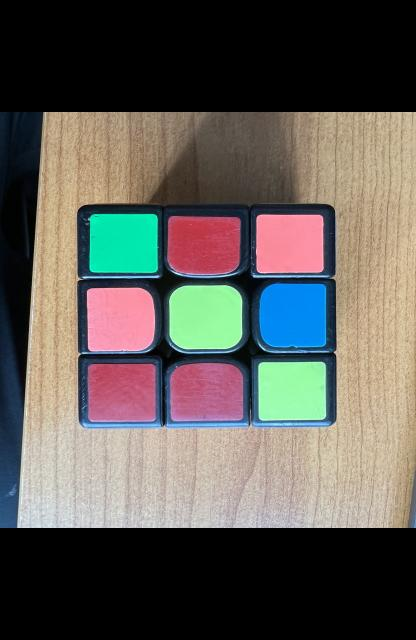Blue: (258, 283, 326, 348)
Green: (88, 214, 157, 272)
Orange: (86, 288, 154, 351), (256, 214, 323, 273)
Red: (167, 216, 239, 276), (169, 362, 242, 421), (87, 363, 156, 422)
Yellow: (168, 285, 242, 349), (257, 361, 326, 421)
